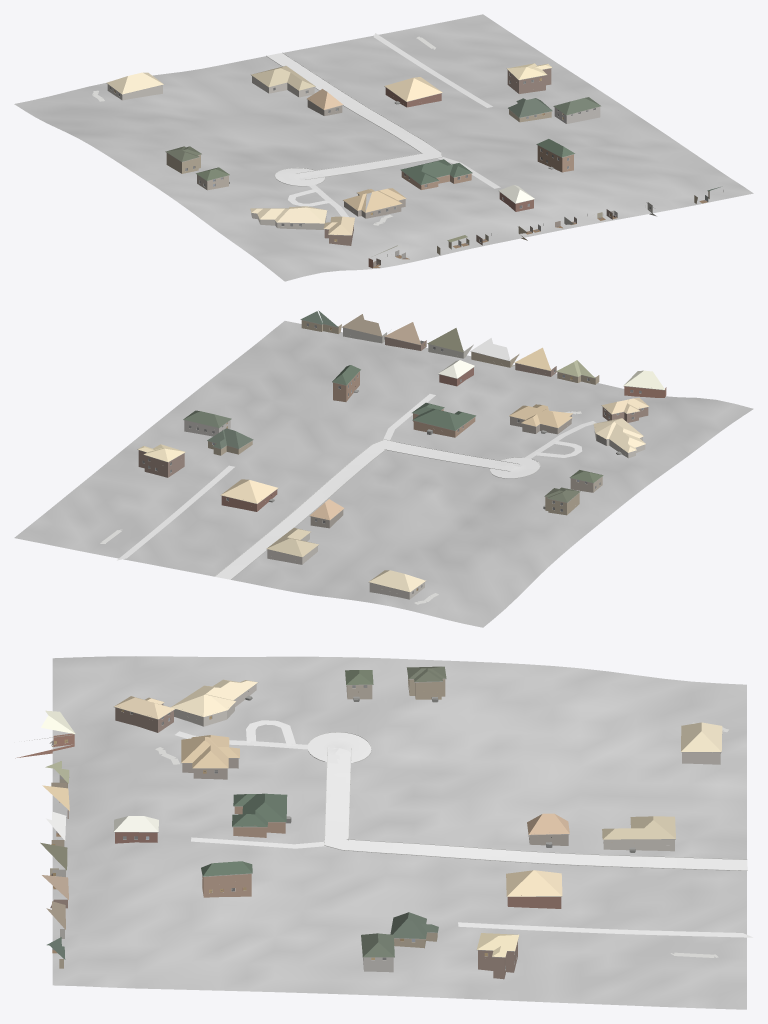
3 views of the same model, one above another, from view 1: azimuth 30°, elevation 25°; view 2: azimuth 150°, elevation 25°; view 3: azimuth 270°, elevation 25° (orthographic). The views are drawn at different scales.
Parts seen in each view (by area): view 1: ground, roof, concrete, wall, wall_stucco, detail, curb, room; view 2: ground, roof, wall, concrete, wall_stucco, detail, curb; view 3: ground, roof, concrete, wall, wall_stucco, curb, detail.
Boxes of the visible parts, x1=… form: ground: x1=14, y1=14, x2=753, y2=281; roof: x1=106, y1=63, x2=720, y2=256; concrete: x1=267, y1=33, x2=500, y2=216; wall: x1=166, y1=68, x2=709, y2=268; wall_stucco: x1=107, y1=76, x2=656, y2=229; detail: x1=106, y1=67, x2=723, y2=257; curb: x1=266, y1=52, x2=442, y2=186; room: x1=213, y1=79, x2=708, y2=267; ground: x1=14, y1=321, x2=753, y2=627; roof: x1=138, y1=310, x2=665, y2=592; wall: x1=138, y1=320, x2=666, y2=528; concrete: x1=117, y1=394, x2=596, y2=579; wall_stucco: x1=267, y1=328, x2=645, y2=599; detail: x1=137, y1=319, x2=665, y2=594; curb: x1=214, y1=439, x2=540, y2=579; ground: x1=52, y1=656, x2=746, y2=1009; roof: x1=40, y1=666, x2=722, y2=959; concrete: x1=175, y1=720, x2=752, y2=937; wall: x1=15, y1=677, x2=568, y2=979; wall_stucco: x1=52, y1=684, x2=720, y2=938; curb: x1=308, y1=732, x2=747, y2=870; detail: x1=24, y1=672, x2=721, y2=970.
Size of the model in its own units: 250 by 30.03 by 266.
